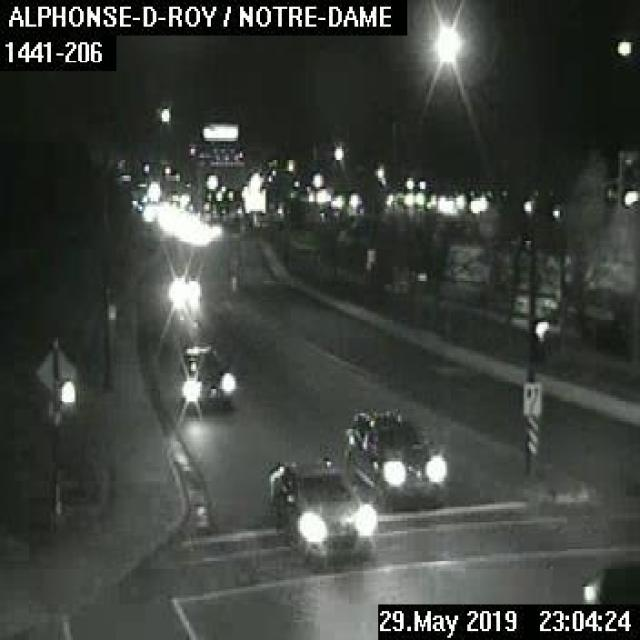vehicle: (262, 455, 380, 565), (341, 407, 453, 507), (174, 342, 233, 411), (576, 562, 638, 602), (163, 270, 201, 306)
